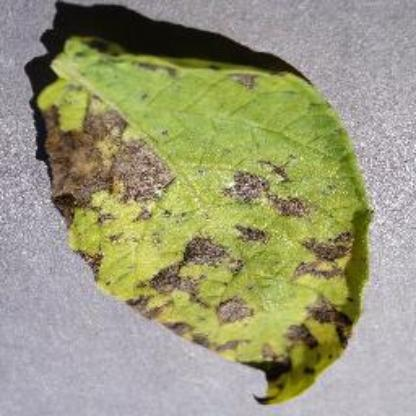Early-Blight: (31, 27, 373, 406)
